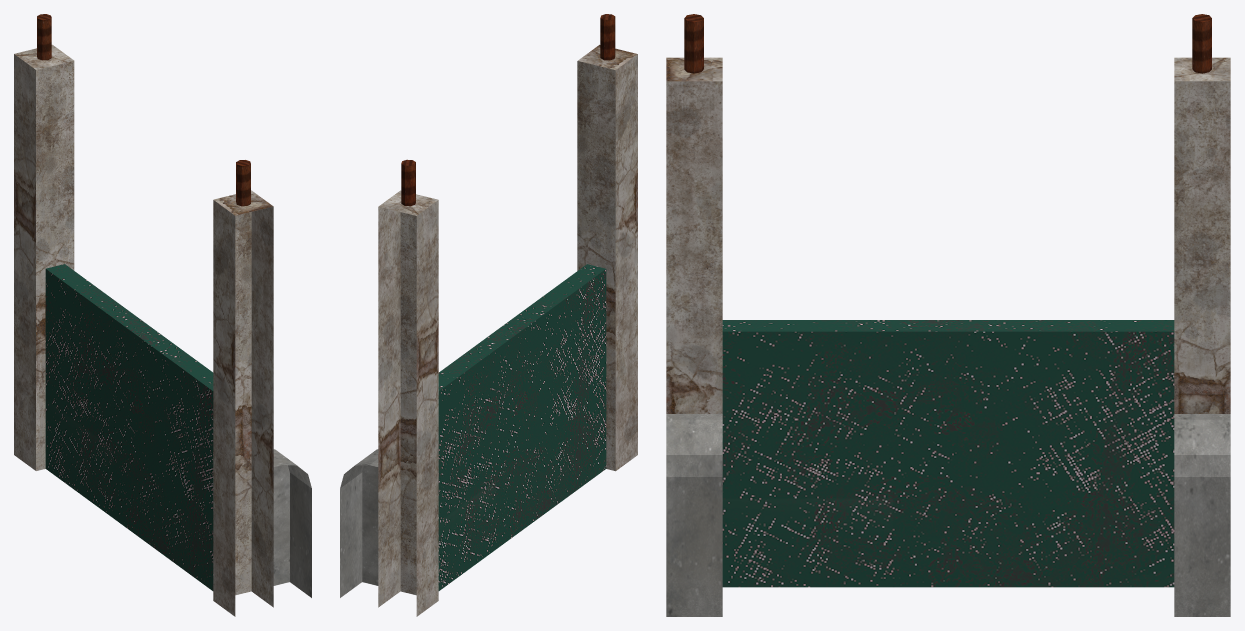
The model's file is WallOpening.fbx.
3 views of the same model, side by side, from view 1: azimuth 30°, elevation 25°; view 2: azimuth 150°, elevation 25°; view 3: azimuth 270°, elevation 25° (orthographic). The views are drawn at different scales.
Parts seen in each view (by area): view 1: WallOpening; view 2: WallOpening; view 3: WallOpening.
Boxes of the visible parts, x1,y1,x2,y2 form: WallOpening: (14,14,311,616); WallOpening: (340,14,637,616); WallOpening: (666,14,1230,616).
Bounding box in the file's own units: 40 × 220 × 200.
